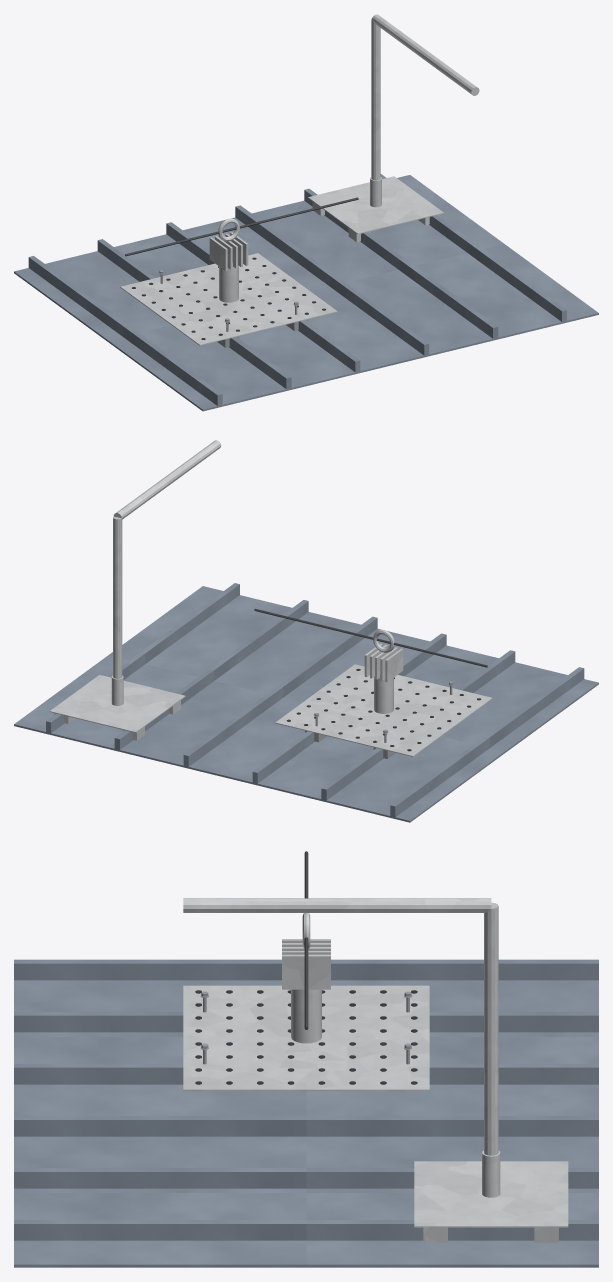
Rendered from rooftop-lifeline-and-handrail-base-plates.glb.
3 renders of one model, top to bottom at view 1: azimuth 30°, elevation 25°; view 2: azimuth 150°, elevation 25°; view 3: azimuth 270°, elevation 25°, orthographic. The views are drawn at different scales.
Visible parts, largest first — view 1: Standing-SeamRoof(context), LifelineBasePlate, HandrailBase&Post, Energy-AbsorberPost, Lifeline(context), Perforations; view 2: Standing-SeamRoof(context), LifelineBasePlate, HandrailBase&Post, Energy-AbsorberPost, Lifeline(context), Perforations; view 3: Standing-SeamRoof(context), LifelineBasePlate, HandrailBase&Post, Energy-AbsorberPost, Perforations, Lifeline(context).
Boxes of the visible parts, <box> form: Standing-SeamRoof(context): <box>14,174,598,411</box>; LifelineBasePlate: <box>120,253,337,345</box>; HandrailBase&Post: <box>308,14,479,242</box>; Energy-AbsorberPost: <box>209,218,248,302</box>; Lifeline(context): <box>125,197,358,256</box>; Perforations: <box>132,257,325,339</box>; Standing-SeamRoof(context): <box>14,583,598,822</box>; LifelineBasePlate: <box>275,664,492,756</box>; HandrailBase&Post: <box>49,440,221,740</box>; Energy-AbsorberPost: <box>364,629,403,713</box>; Lifeline(context): <box>254,608,487,667</box>; Perforations: <box>286,668,481,751</box>; Standing-SeamRoof(context): <box>14,959,598,1267</box>; LifelineBasePlate: <box>183,985,429,1091</box>; HandrailBase&Post: <box>183,898,568,1242</box>; Energy-AbsorberPost: <box>282,913,330,1043</box>; Perforations: <box>195,990,417,1084</box>; Lifeline(context): <box>304,851,308,1029</box>.
Bounding box in the file's own units: 2.3 × 1.13 × 1.9.
Materials: 5 (4 with a texture image).
